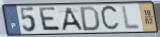5: (19, 6, 39, 34)
A: (60, 6, 84, 32)
C: (99, 4, 121, 33)
D: (79, 5, 101, 32)
E: (38, 7, 63, 33)
L: (121, 5, 142, 31)
